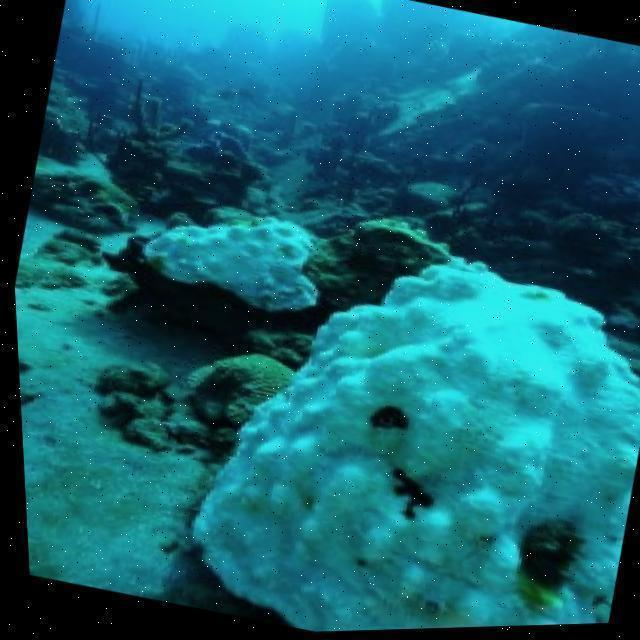Bleached Coral: (157, 191, 640, 637), (101, 134, 382, 369)
